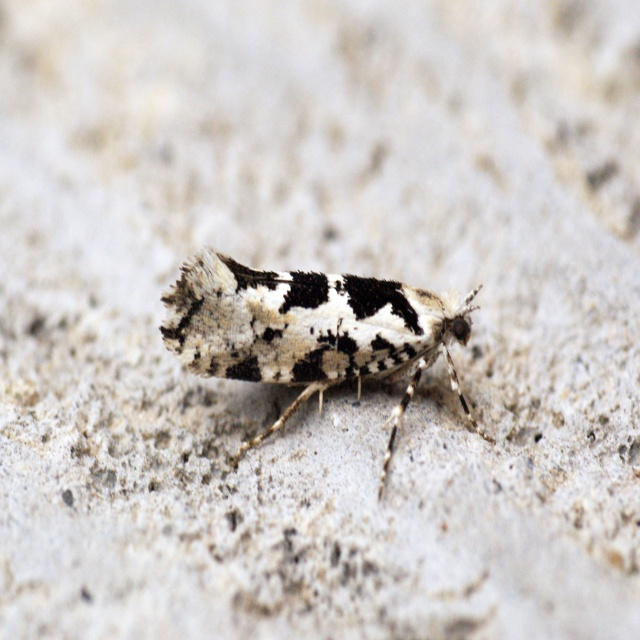Moths and butterflies: (159, 246, 498, 502)
